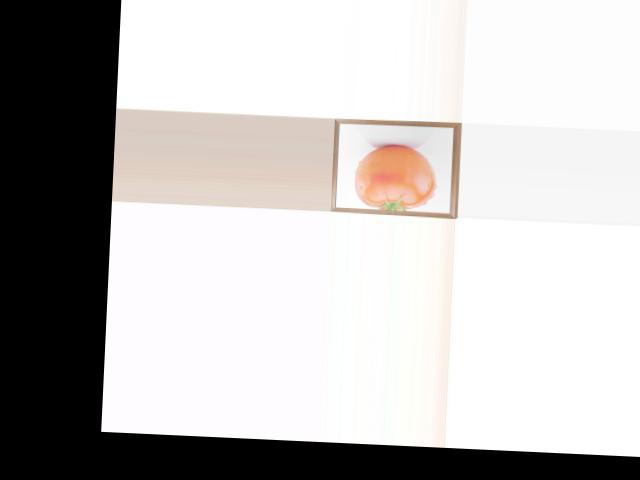tomato: (353, 143, 438, 212)
